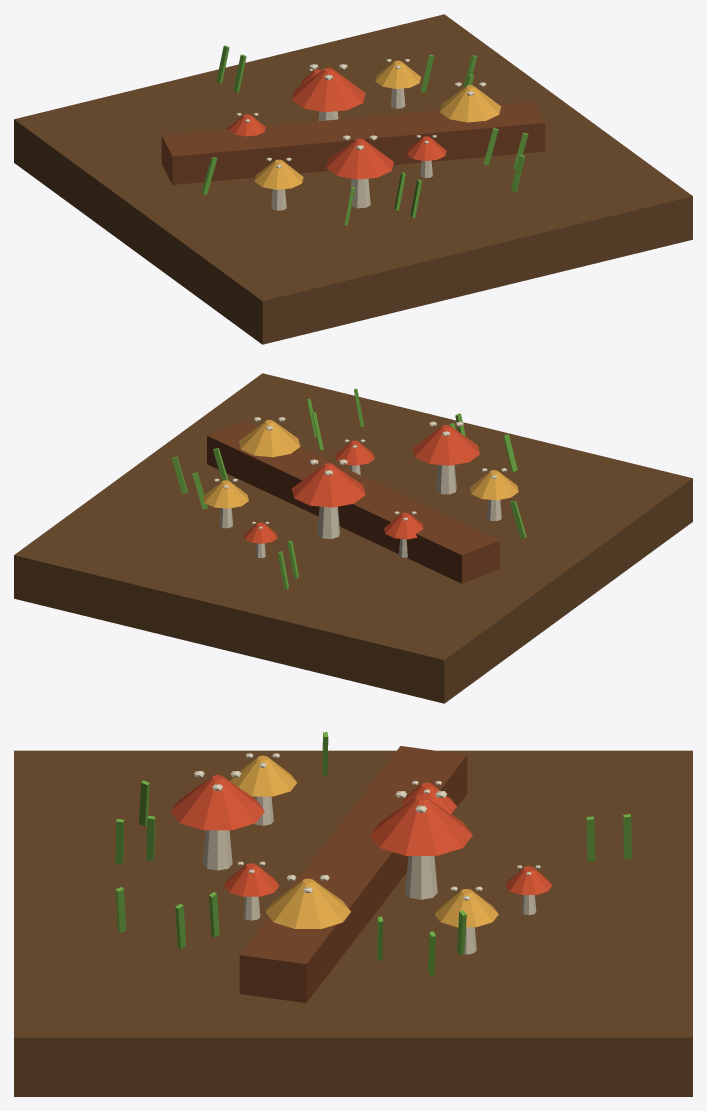
File: mushrooms.glb
3 renders of one model, top to bottom at view 1: azimuth 30°, elevation 25°; view 2: azimuth 150°, elevation 25°; view 3: azimuth 270°, elevation 25°, orthographic. The views are drawn at different scales.
Visible parts, largest first — view 1: TerrainBase, RottenWood, MushroomCap.005, MushroomCap.001, MushroomCap.003, MushroomCap, MushroomCap.006, MushroomCap.002, MushroomCap.004, MushroomStem.001; view 2: TerrainBase, RottenWood, MushroomCap.005, MushroomCap.001, MushroomCap.003, MushroomCap, MushroomCap.006, MushroomCap.004, MushroomStem.005, MushroomCap.002, MushroomStem.001; view 3: TerrainBase, RottenWood, MushroomCap.005, MushroomCap.001, MushroomCap.003, MushroomCap, MushroomCap.006, MushroomStem.005, MushroomCap.002, MushroomStem.001, MushroomCap.007, MushroomCap.004.
Boxes of the visible parts, x1=… form: TerrainBase: x1=14, y1=14, x2=692, y2=344; RottenWood: x1=161, y1=102, x2=545, y2=184; MushroomCap.005: x1=291, y1=67, x2=365, y2=112; MushroomCap.001: x1=326, y1=138, x2=393, y2=179; MushroomCap.003: x1=440, y1=85, x2=501, y2=122; MushroomCap: x1=254, y1=159, x2=303, y2=189; MushroomCap.006: x1=375, y1=60, x2=421, y2=88; MushroomCap.002: x1=406, y1=136, x2=446, y2=160; MushroomCap.004: x1=227, y1=114, x2=265, y2=136; MushroomStem.001: x1=350, y1=178, x2=370, y2=208; TerrainBase: x1=14, y1=373, x2=692, y2=703; RottenWood: x1=207, y1=421, x2=499, y2=583; MushroomCap.005: x1=291, y1=463, x2=365, y2=507; MushroomCap.001: x1=412, y1=424, x2=479, y2=465; MushroomCap.003: x1=239, y1=419, x2=300, y2=457; MushroomCap: x1=469, y1=470, x2=518, y2=500; MushroomCap.006: x1=203, y1=480, x2=248, y2=508; MushroomCap.004: x1=384, y1=512, x2=423, y2=539; MushroomStem.005: x1=317, y1=506, x2=339, y2=538; MushroomCap.002: x1=335, y1=440, x2=374, y2=465; MushroomStem.001: x1=435, y1=464, x2=456, y2=494; TerrainBase: x1=14, y1=750, x2=692, y2=1096; RottenWood: x1=239, y1=746, x2=467, y2=1002; MushroomCap.005: x1=370, y1=796, x2=472, y2=855; MushroomCap.001: x1=170, y1=775, x2=264, y2=830; MushroomCap.003: x1=265, y1=878, x2=350, y2=928; MushroomCap: x1=230, y1=755, x2=297, y2=796; MushroomCap.006: x1=434, y1=889, x2=498, y2=927; MushroomStem.005: x1=405, y1=856, x2=437, y2=899; MushroomCap.002: x1=224, y1=863, x2=279, y2=896; MushroomStem.001: x1=202, y1=830, x2=232, y2=870; MushroomCap.007: x1=505, y1=866, x2=552, y2=894; MushroomCap.004: x1=402, y1=782, x2=456, y2=813.
Bounding box in the file's own units: 6 × 1.53 × 6.
